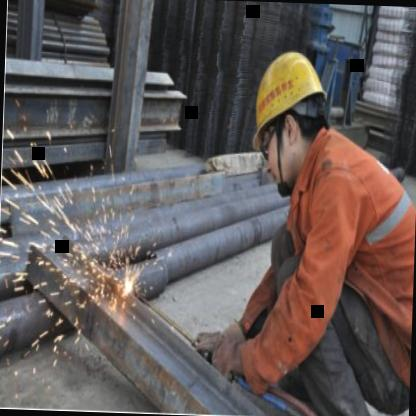helmet: (240, 36, 334, 198)
